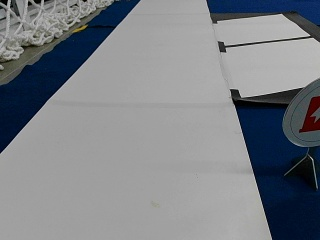battery: (283, 79, 318, 149)
